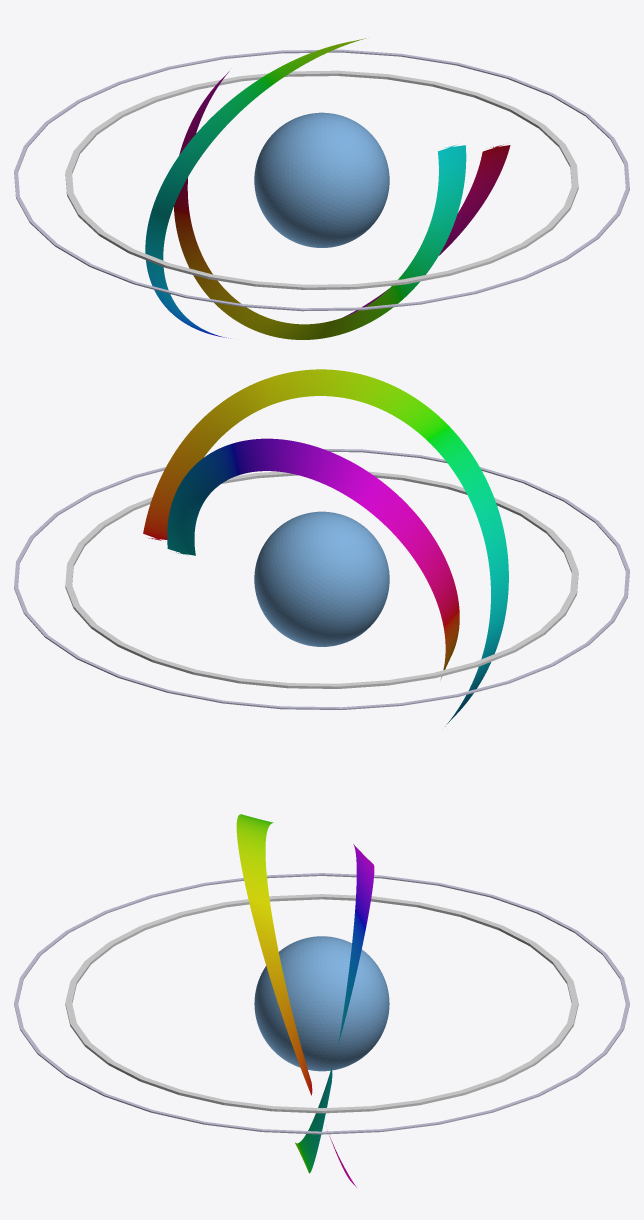
The model's file is atlas_vii_rainbow_bridge_spectrum.glb.
The picture shows the model from 3 angles, top to bottom: view 1: azimuth 30°, elevation 25°; view 2: azimuth 150°, elevation 25°; view 3: azimuth 270°, elevation 25°; orthographic projection.
Parts seen in each view (by area): view 1: world; view 2: world; view 3: world.
Boxes of the visible parts, <box> form: world: <box>14,38,629,339</box>; world: <box>14,369,629,726</box>; world: <box>14,814,629,1187</box>.
Size of the model in its own units: 4.56 by 2.87 by 4.56.
